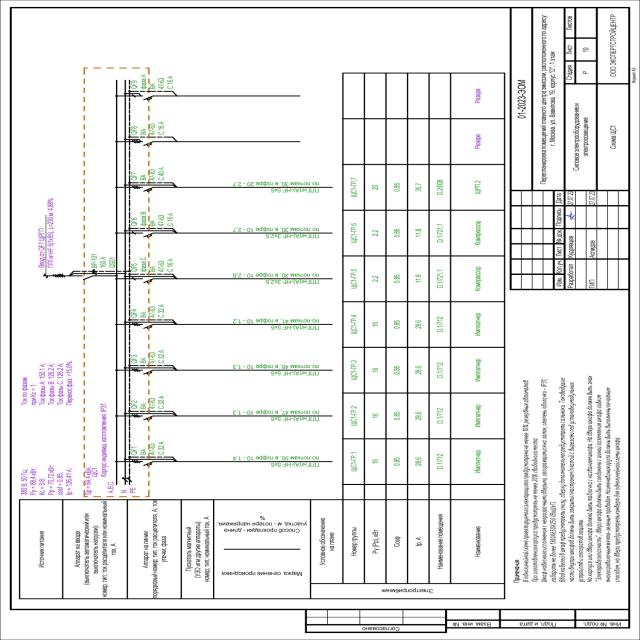-: (92, 402, 108, 478), (149, 73, 175, 89), (140, 394, 166, 410), (140, 119, 166, 135), (149, 211, 175, 227), (138, 302, 164, 318), (139, 348, 165, 364), (140, 165, 166, 181), (150, 257, 176, 273), (139, 440, 165, 456), (91, 253, 107, 269)
QF: (130, 138, 154, 148), (131, 458, 154, 468), (131, 412, 154, 422), (132, 322, 156, 331), (131, 368, 155, 377), (131, 276, 154, 285), (131, 93, 154, 102), (131, 186, 155, 194), (131, 231, 154, 239)
QS: (76, 274, 98, 281)
